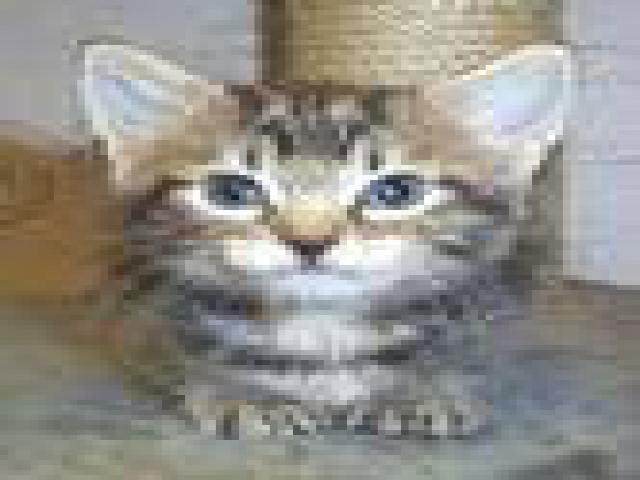cat: (47, 21, 533, 446)
